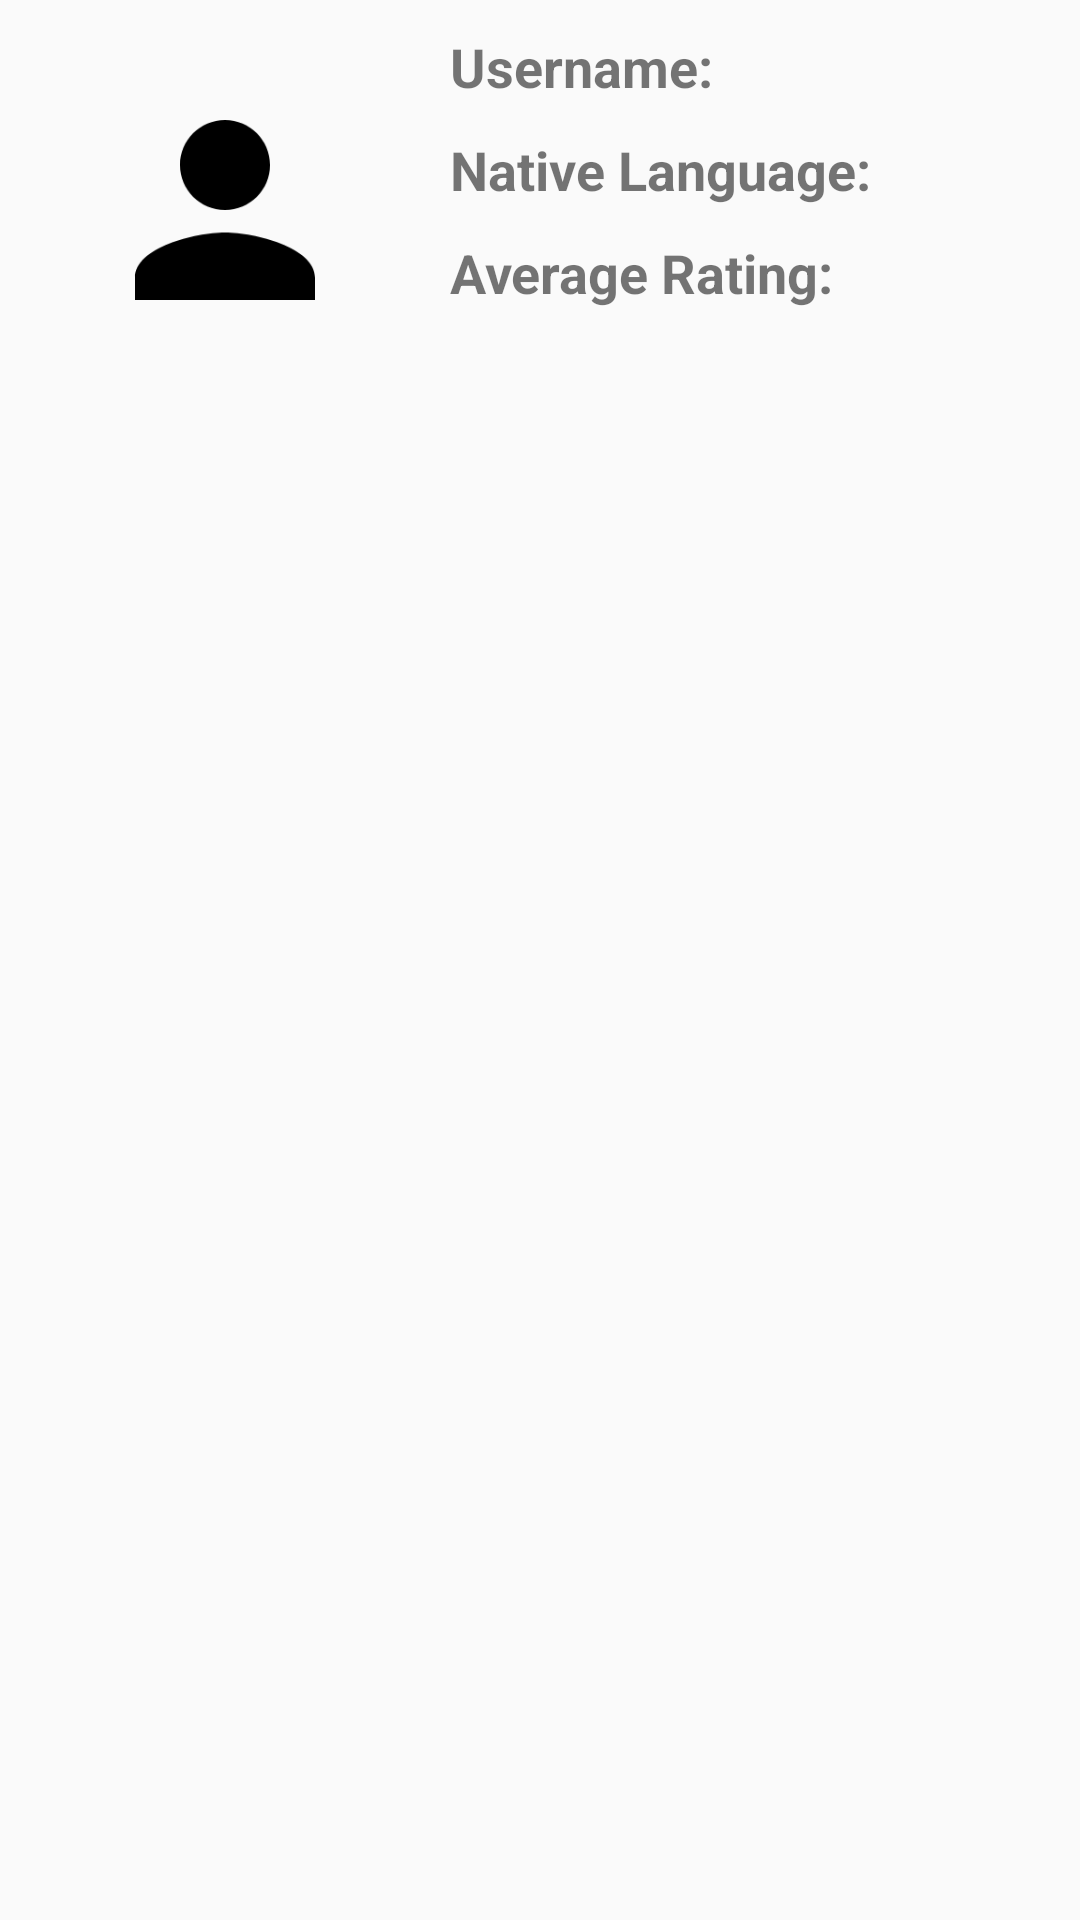

Where icons sit on this 1080px x 1920px app screen, as [x1, y1, x2, y2]:
person: [135, 120, 315, 300]
